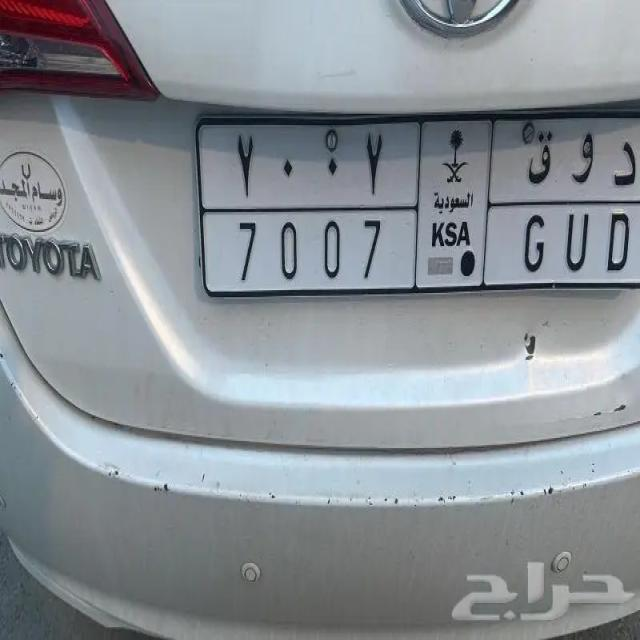license_plate: (203, 208, 640, 290)
